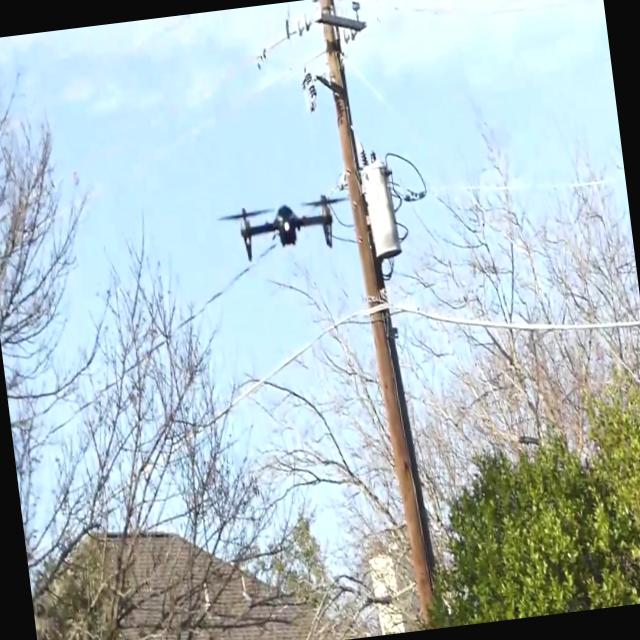drone: (214, 188, 354, 262)
